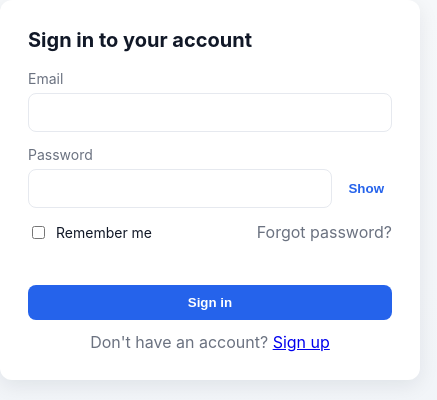
Login component › shows backend error message on 401
Type "noone@example.com" into the field labelled "Email" at coordinates (210, 112), box [28,93,392,132]
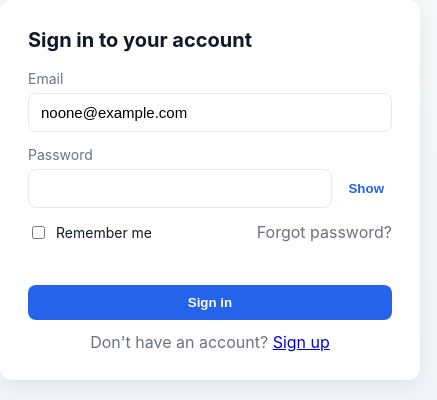
Type "badpass" into the password field labelled "Password" at coordinates (180, 188), box [28,169,332,208]
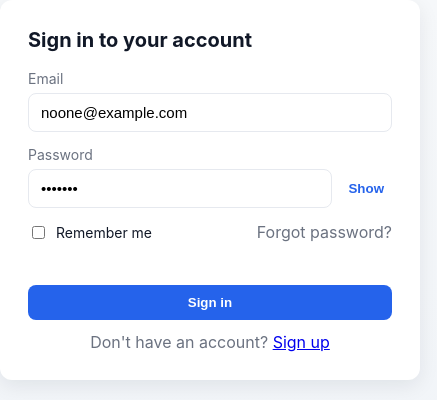
Click the button "Sign in" at coordinates (210, 303), box [28,285,392,320]
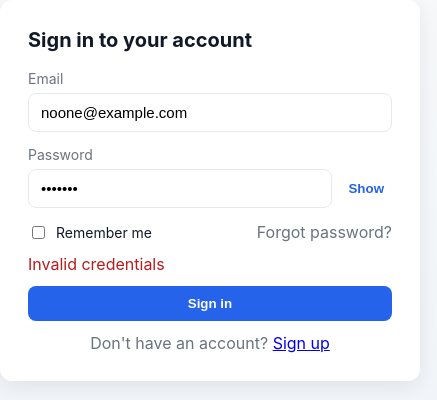
Check: the text "Invalid credentials" is shown, box [28,254,165,274]
